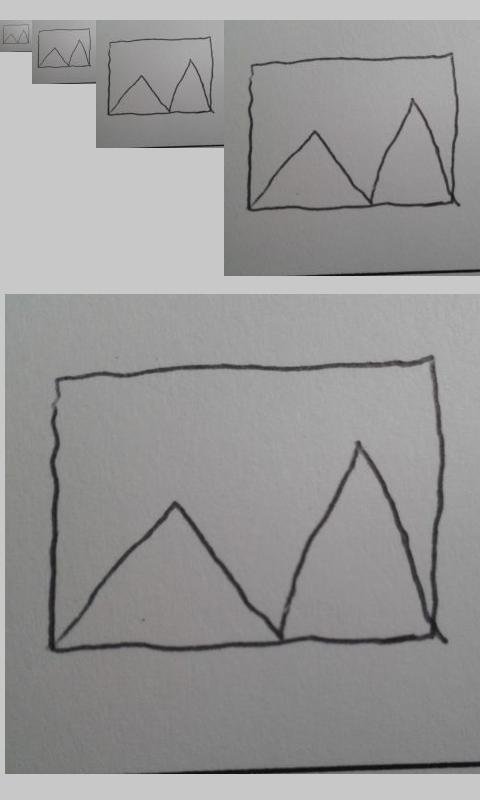image_view: (45, 356, 445, 655), (247, 53, 461, 212), (106, 36, 216, 117), (37, 28, 91, 69), (2, 24, 30, 45)
